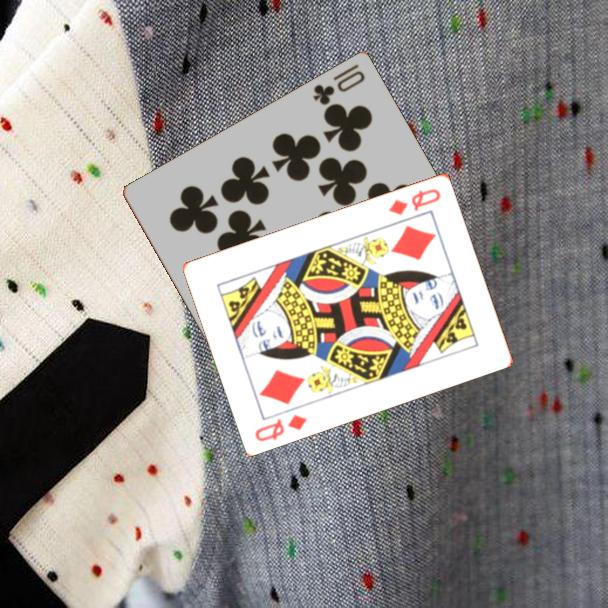c10: (309, 61, 368, 109)
d12: (251, 410, 310, 444), (385, 185, 444, 218)
